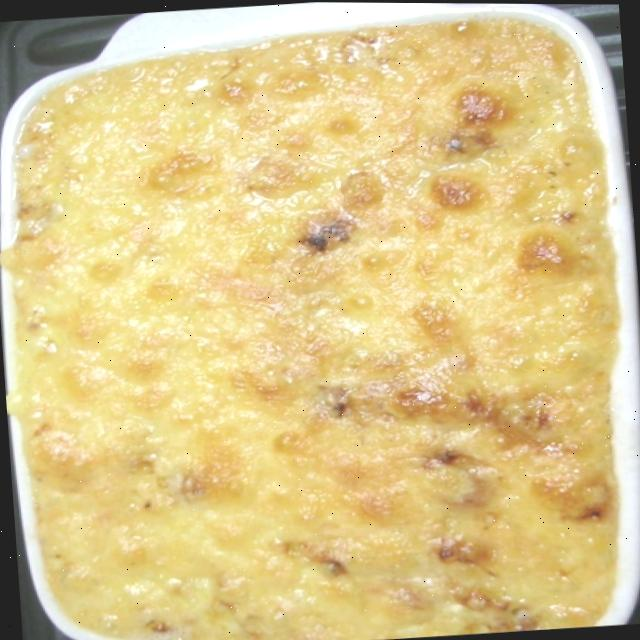米饭主食: (22, 53, 604, 640)
